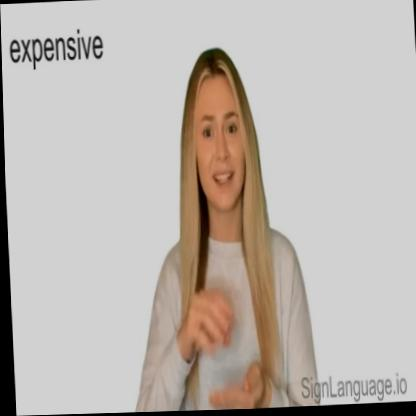Expensive: (160, 258, 275, 412)
